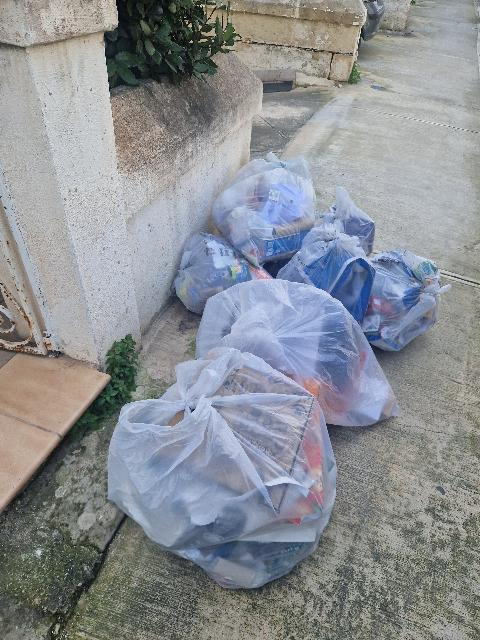Recyclable -Grey-: (108, 348, 337, 588), (196, 280, 399, 426), (212, 153, 316, 264), (277, 220, 375, 321), (359, 250, 451, 351), (171, 233, 272, 315), (323, 186, 375, 255), (401, 285, 406, 291)
